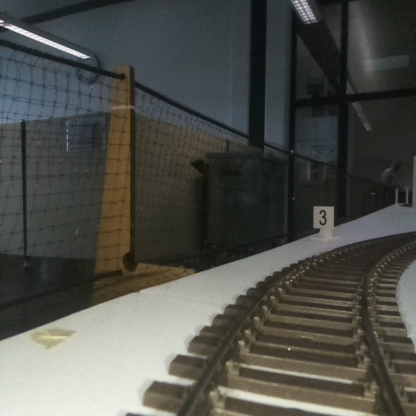white-stop-3: (313, 206, 333, 242)
